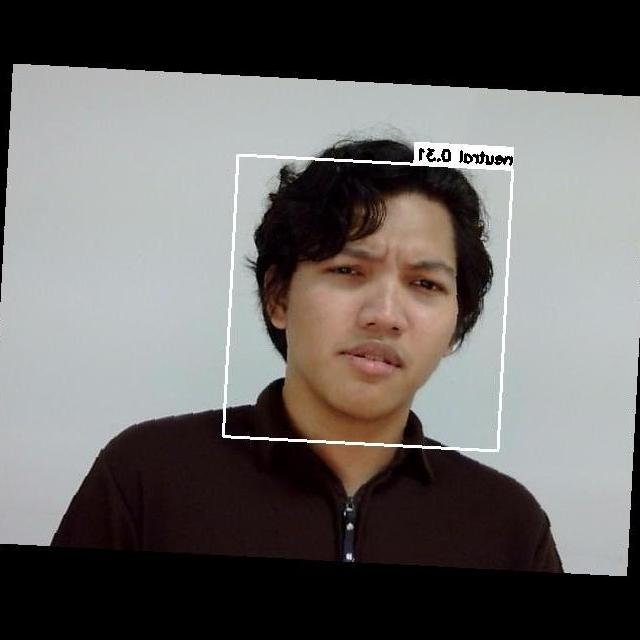Fear: (295, 222, 466, 414)
